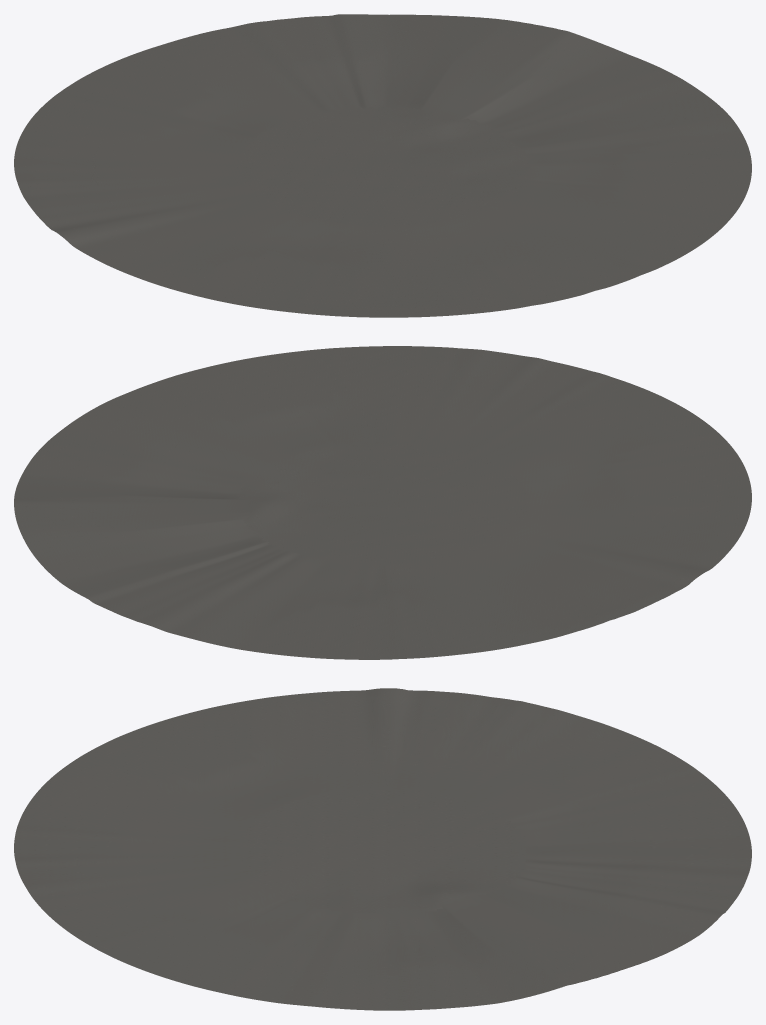
The model's file is terrain_apollo-11.glb.
The picture shows the model from 3 angles, top to bottom: view 1: azimuth 30°, elevation 25°; view 2: azimuth 150°, elevation 25°; view 3: azimuth 270°, elevation 25°; orthographic projection.
Parts seen in each view (by area): view 1: SkylineRing, Terrain; view 2: SkylineRing, Terrain; view 3: SkylineRing, Terrain.
Part boxes in pixels (x1,y1,x2,y2): SkylineRing: (14, 14, 751, 317); Terrain: (235, 106, 530, 227); SkylineRing: (14, 346, 751, 659); Terrain: (237, 441, 529, 565); SkylineRing: (14, 688, 751, 1010); Terrain: (240, 789, 525, 913).
Bounding box in the file's own units: 3000 × 51.64 × 3000.
Materials: 1 (1 with a texture image).
